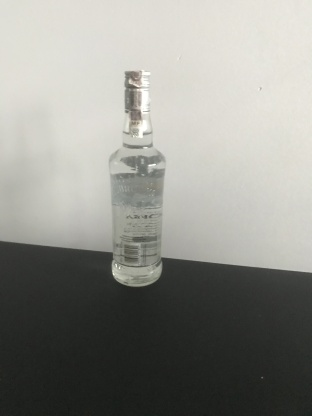nakretka: (122, 68, 152, 113)
